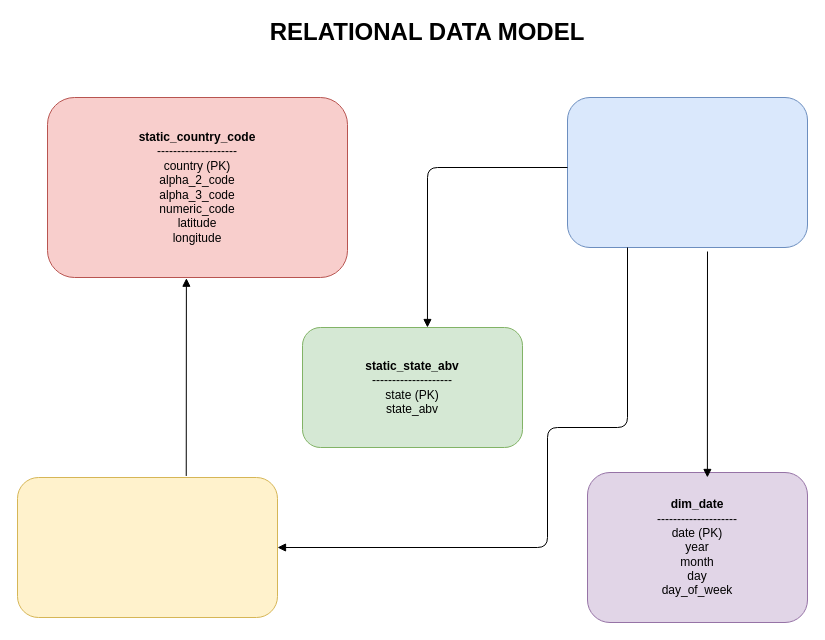
The diagram is 825 pixels wide and 640 high, and some of its shapes have lost their labels. The box of each missing label's shape, as (x1, y1, x2, y2) in pixels:
nytimes_states -------------------- date (PK) state (PK) cases deaths: (566, 96, 808, 248)
static_state_population -------------------- state (PK) population_2018 country: (16, 476, 278, 618)
